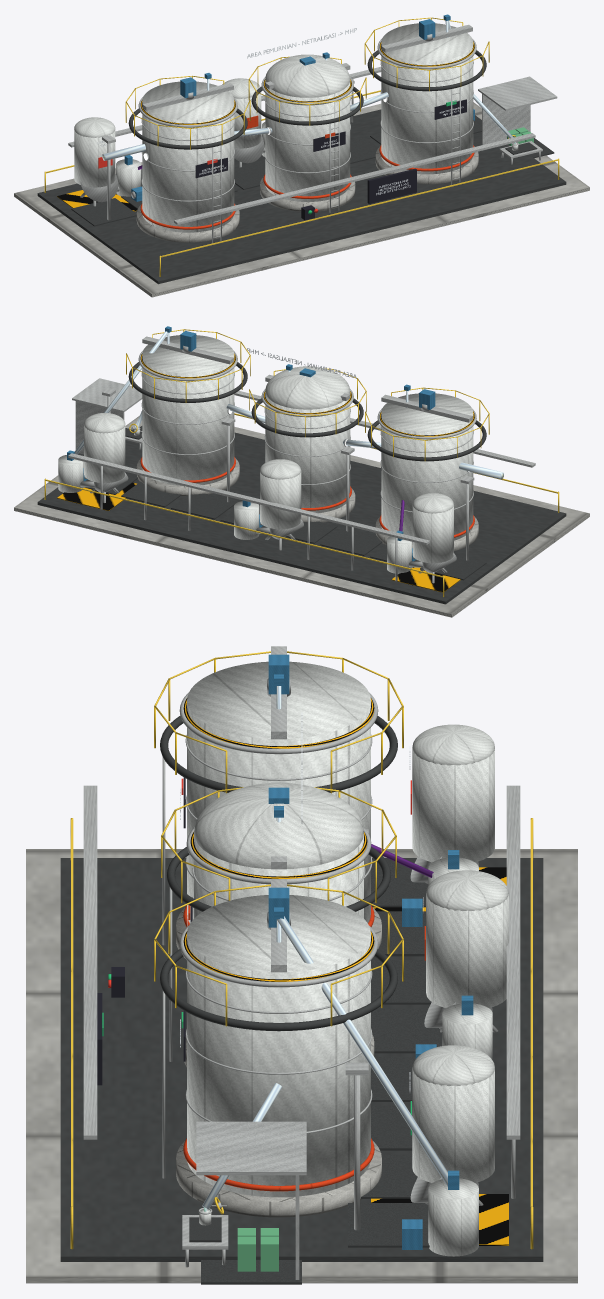
The model's file is Level11_PurificationMHP_IndustrialUV_v2.fbx.
The picture shows the model from 3 angles, top to bottom: view 1: azimuth 30°, elevation 25°; view 2: azimuth 150°, elevation 25°; view 3: azimuth 270°, elevation 25°; orthographic projection. The views are drawn at different scales.
Visible parts, largest first — view 1: Concrete_Process_Pad, Neutralization_Purification_Tank_Tank_Shell, MHP_Precipitation_Tank_Tank_Shell, Level11_BasePad, Polishing_Tank_Tank_Shell, Polishing_Tank_Tank_Domed_Lid, Instrument_Cable_Tray_-5.2, Neutralization_Reagent_Dosing_Skid_Silo_Body, MHP_Product_Shelter_Roof, MHP_Product_Shelter_BackWall, Neutralization_Purification_Tank_Plinth, MainPanel_Backplate (+23 smaller); view 2: Concrete_Process_Pad, MHP_Precipitation_Tank_Tank_Shell, Level11_BasePad, Neutralization_Purification_Tank_Tank_Shell, Polishing_Tank_Tank_Shell, Polishing_Tank_Tank_Domed_Lid, Instrument_Cable_Tray_+5.2, Neutralization_Reagent_Dosing_Skid_Silo_Body, Lime_Dosing_Skid_Silo_Body, MGO_Dosing_Skid_Silo_Body, MHP_Product_Shelter_Roof, Raised_Service_Grating_05 (+26 smaller); view 3: Concrete_Process_Pad, Level11_BasePad, MHP_Precipitation_Tank_Tank_Shell, Neutralization_Purification_Tank_Tank_Shell, Polishing_Tank_Tank_Domed_Lid, Neutralization_Reagent_Dosing_Skid_Silo_Body, Lime_Dosing_Skid_Silo_Body, MGO_Dosing_Skid_Silo_Body, MHP_Product_Shelter_Roof, Instrument_Cable_Tray_-5.2, Instrument_Cable_Tray_+5.2, Polishing_Tank_Tank_Shell (+31 smaller).
Part boxes in pixels (bbox=[...]): Concrete_Process_Pad: bbox=[37, 109, 566, 284]; Neutralization_Purification_Tank_Tank_Shell: bbox=[142, 81, 234, 232]; MHP_Precipitation_Tank_Tank_Shell: bbox=[381, 23, 473, 174]; Level11_BasePad: bbox=[14, 102, 589, 297]; Polishing_Tank_Tank_Shell: bbox=[265, 79, 350, 201]; Polishing_Tank_Tank_Domed_Lid: bbox=[265, 54, 350, 97]; Instrument_Cable_Tray_-5.2: bbox=[174, 133, 535, 224]; Neutralization_Reagent_Dosing_Skid_Silo_Body: bbox=[74, 130, 115, 187]; MHP_Product_Shelter_Roof: bbox=[478, 76, 557, 110]; MHP_Product_Shelter_BackWall: bbox=[482, 94, 530, 144]; Neutralization_Purification_Tank_Plinth: bbox=[136, 204, 239, 242]; MainPanel_Backplate: bbox=[367, 168, 416, 203]; Concrete_Process_Pad: bbox=[37, 426, 566, 604]; MHP_Precipitation_Tank_Tank_Shell: bbox=[142, 335, 234, 485]; Level11_BasePad: bbox=[14, 415, 589, 617]; Neutralization_Purification_Tank_Tank_Shell: bbox=[381, 393, 473, 543]; Polishing_Tank_Tank_Shell: bbox=[265, 390, 350, 513]; Polishing_Tank_Tank_Domed_Lid: bbox=[265, 366, 350, 409]; Instrument_Cable_Tray_+5.2: bbox=[68, 453, 429, 544]; Neutralization_Reagent_Dosing_Skid_Silo_Body: bbox=[412, 505, 453, 563]; Lime_Dosing_Skid_Silo_Body: bbox=[260, 470, 301, 529]; MGO_Dosing_Skid_Silo_Body: bbox=[84, 425, 125, 482]; MHP_Product_Shelter_Roof: bbox=[72, 378, 142, 412]; Raised_Service_Grating_05: bbox=[171, 493, 237, 519]; Concrete_Process_Pad: bbox=[60, 858, 543, 1261]; Level11_BasePad: bbox=[26, 849, 577, 1283]; MHP_Precipitation_Tank_Tank_Shell: bbox=[187, 895, 370, 1197]; Neutralization_Purification_Tank_Tank_Shell: bbox=[187, 661, 370, 923]; Polishing_Tank_Tank_Domed_Lid: bbox=[194, 782, 363, 868]; Neutralization_Reagent_Dosing_Skid_Silo_Body: bbox=[412, 748, 494, 862]; Lime_Dosing_Skid_Silo_Body: bbox=[426, 893, 508, 1007]; MGO_Dosing_Skid_Silo_Body: bbox=[412, 1069, 494, 1182]; MHP_Product_Shelter_Roof: bbox=[196, 1121, 306, 1175]; Instrument_Cable_Tray_-5.2: bbox=[83, 785, 97, 1139]; Instrument_Cable_Tray_+5.2: bbox=[506, 785, 520, 1139]; Polishing_Tank_Tank_Shell: bbox=[194, 834, 363, 918].
Size of the model in its own units: 22.5 by 8.05 by 12.
Materials: 20 (13 with a texture image).
